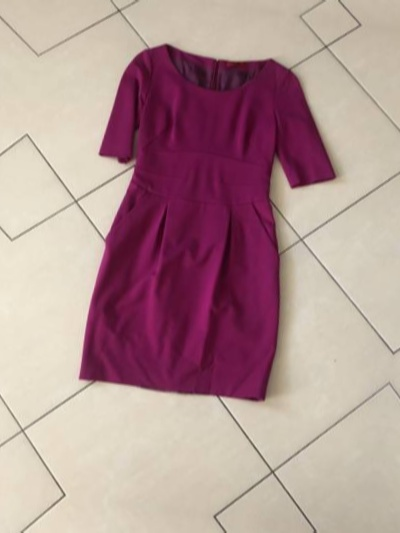Dress: (44, 10, 350, 431), (106, 0, 400, 1)
